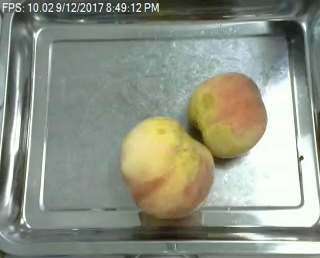Peach: (120, 115, 215, 218), (187, 72, 268, 159)
